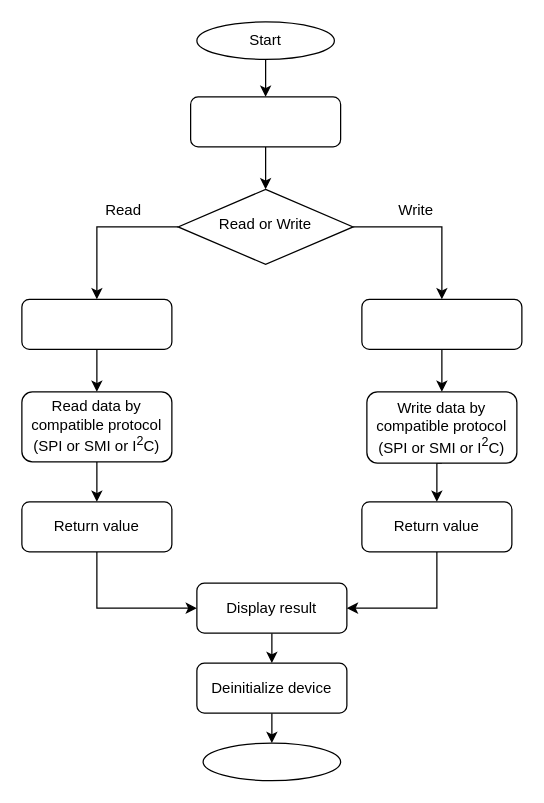
This 544x803 diagram has some shape labels left out. Here are the shapes that lost their labels. From the top down, the box of each, then its label:
(189, 96, 341, 147): Initialize device
(21, 298, 172, 349): Read CPLD registers
(361, 298, 522, 349): Write to CPLD registers
(202, 742, 341, 781): End
